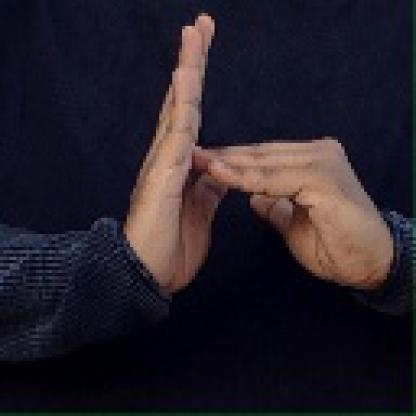Z: (122, 8, 378, 296)
